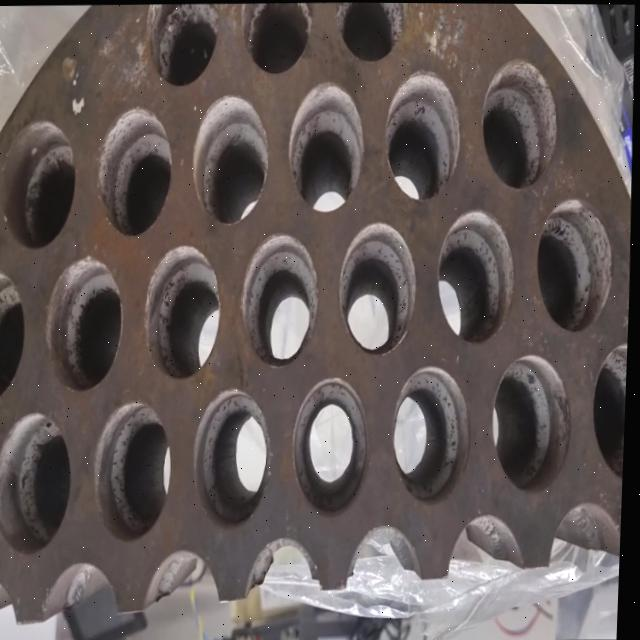Hole: (391, 364, 475, 506), (491, 353, 576, 493), (94, 400, 177, 543), (194, 388, 276, 529), (0, 411, 79, 557), (293, 375, 373, 519), (45, 255, 128, 393), (436, 209, 519, 346), (240, 231, 323, 368), (143, 243, 225, 381), (338, 220, 420, 357), (535, 197, 617, 332), (382, 68, 464, 202), (190, 93, 272, 227), (95, 104, 176, 239), (479, 57, 561, 190), (286, 81, 368, 214), (0, 119, 81, 251), (145, 3, 220, 89), (239, 2, 314, 75), (592, 343, 630, 484), (335, 2, 409, 63), (0, 268, 30, 406)
